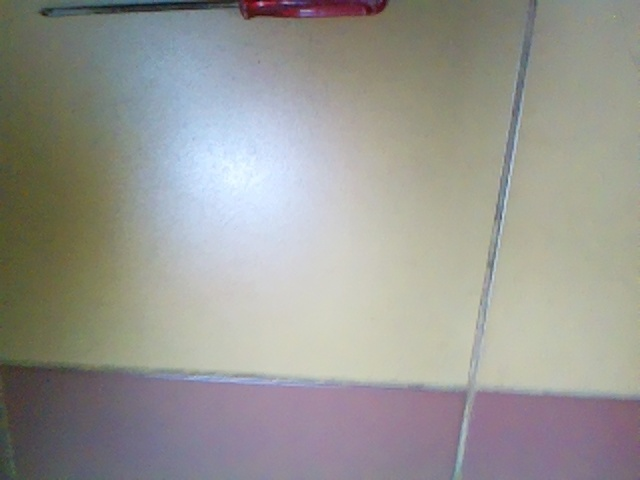redskrew: (29, 1, 388, 21)
